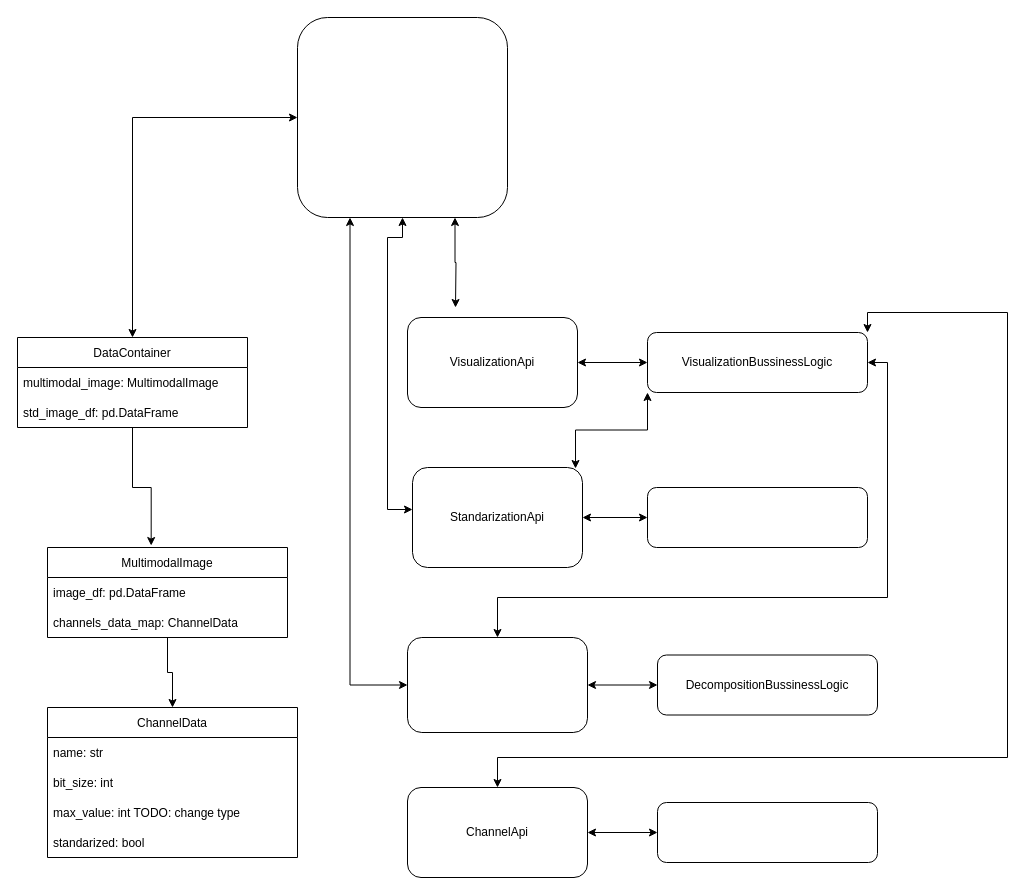
This 1034x895 diagram has some shape labels left out. The box of each missing label's shape, as (x1, y1, x2, y2) in pixels:
ChannelBussinessLogic: (656, 802, 878, 862)
DecompositionApi: (406, 636, 588, 732)
LIBRARY API: (296, 16, 508, 218)
StandarizationBussinessLogic: (646, 486, 868, 548)
